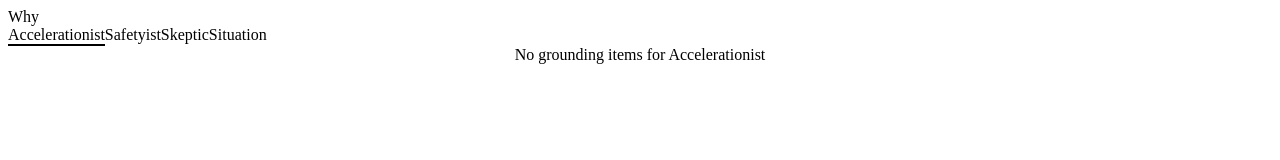
GroundingSection (t/4591) › falls back to anchorSummary when the anchor situation id does not resolve (t/4674)
The image size is (1280, 160).
Click the tab "Situation" at [238, 36], box [209, 26, 267, 46]
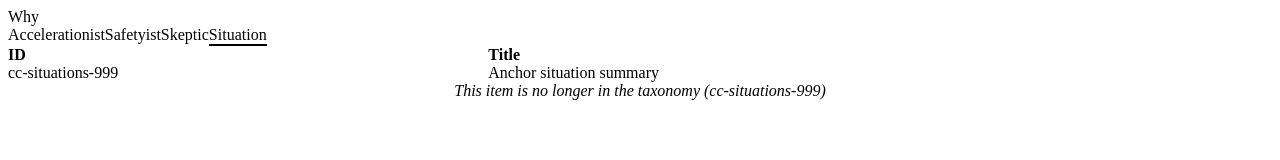
Check: the text "Anchor situation summary" is shown, box [488, 64, 1272, 82]
